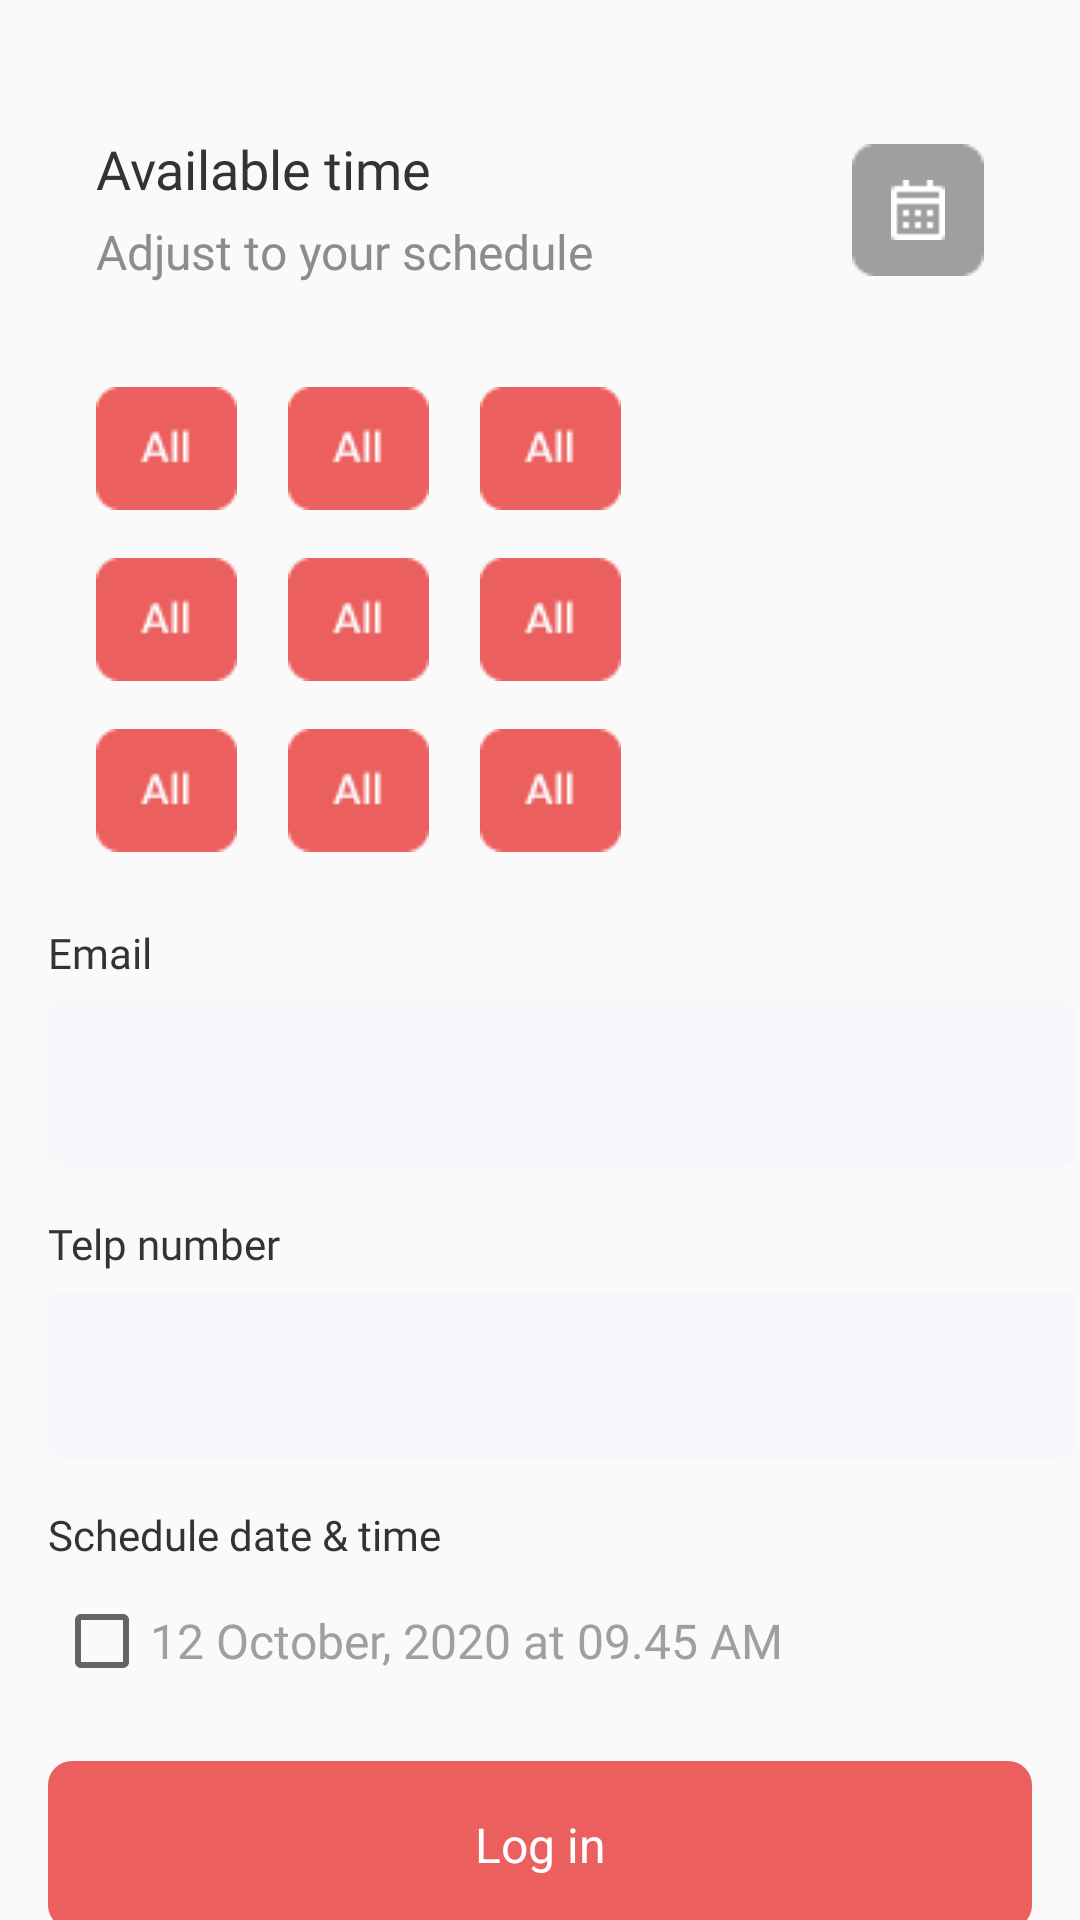

Icon click points for this 1080px×1920px phone screenshot, format point (x, y):
calendar: point (918, 210)
